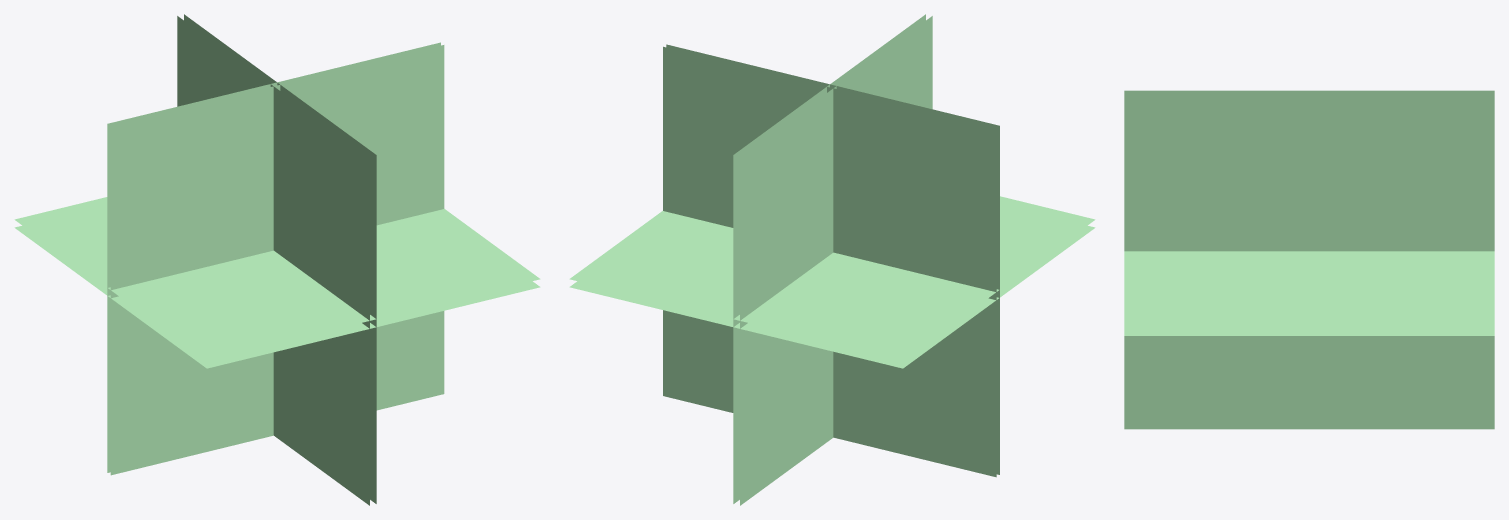
The picture shows the model from 3 angles, left to right: view 1: azimuth 30°, elevation 25°; view 2: azimuth 150°, elevation 25°; view 3: azimuth 270°, elevation 25°; orthographic projection. The views are drawn at different scales.
Parts seen in each view (by area): view 1: Object54; view 2: Object54; view 3: Object54.
Part boxes in pixels (<box>): Object54: <box>14,14,540,505</box>; Object54: <box>569,14,1095,505</box>; Object54: <box>1124,90,1494,429</box>.
Size of the model in its own units: 47.45 by 47.4 by 47.4.
